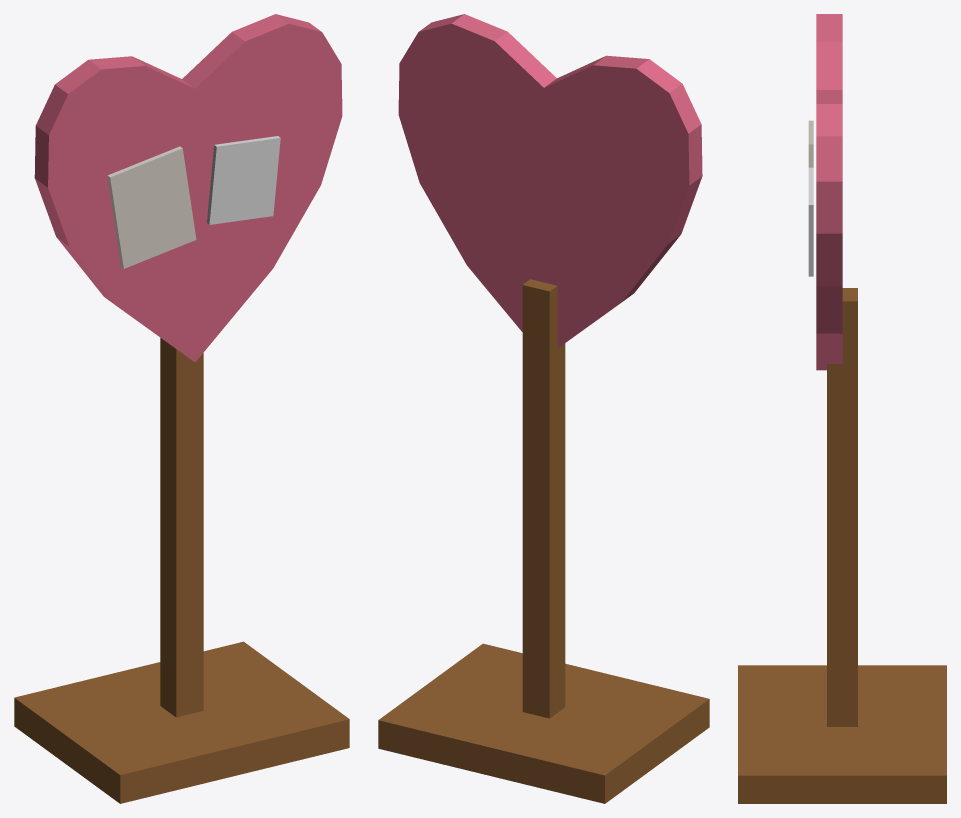
File: love_notes_display.glb
The picture shows the model from 3 angles, left to right: view 1: azimuth 30°, elevation 25°; view 2: azimuth 150°, elevation 25°; view 3: azimuth 270°, elevation 25°; orthographic projection.
Visible parts, largest first — view 1: decor-love_notes_display; view 2: decor-love_notes_display; view 3: decor-love_notes_display.
Part boxes in pixels (bbox=[...]): decor-love_notes_display: bbox=[14, 14, 349, 803]; decor-love_notes_display: bbox=[378, 14, 709, 803]; decor-love_notes_display: bbox=[738, 14, 946, 803].
Size of the model in its own units: 0.6416 by 1.46 by 0.4.
